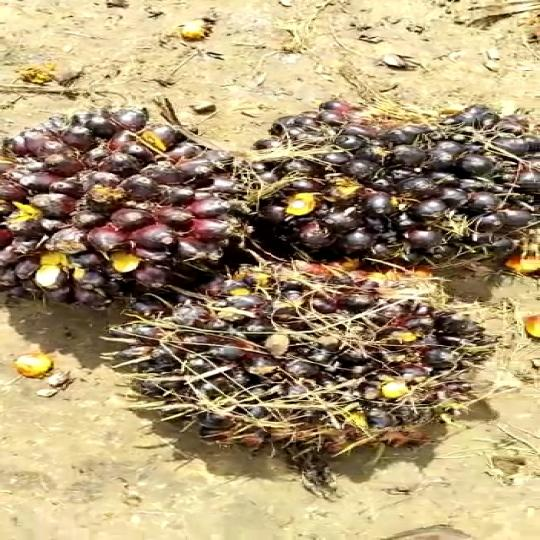mentah: (113, 261, 501, 465), (255, 95, 540, 283), (0, 100, 253, 308)
